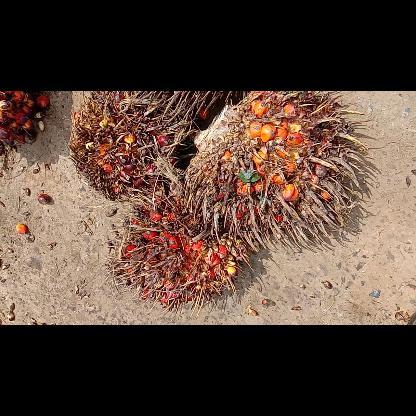Terlalu masak: (181, 91, 377, 259), (106, 186, 256, 320), (64, 91, 200, 204)
